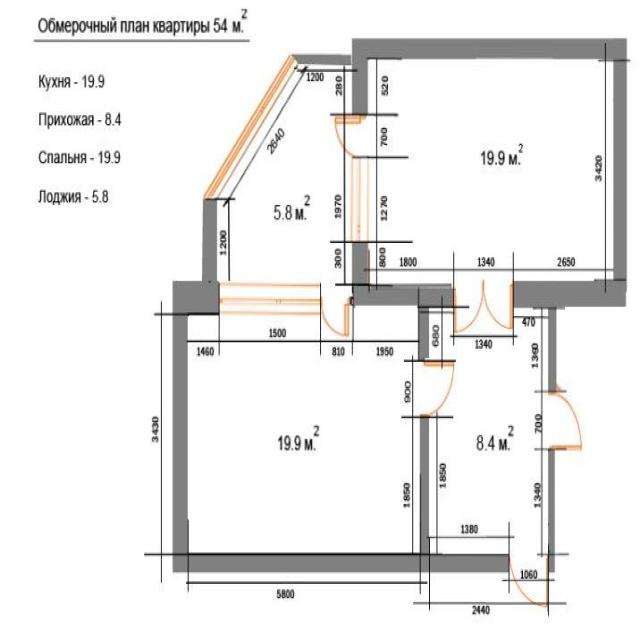Corridors: (430, 308, 547, 553)
Doors: (454, 279, 513, 336), (545, 392, 585, 453), (509, 553, 549, 609), (418, 359, 456, 415), (322, 283, 352, 339), (332, 115, 369, 158)
LBwalls: (172, 281, 509, 573), (352, 37, 628, 309), (352, 242, 456, 307)
Offices: (189, 305, 420, 553), (369, 60, 613, 280), (217, 64, 351, 282)
Walls: (201, 200, 218, 281), (420, 415, 429, 552), (547, 450, 555, 574), (548, 308, 557, 394), (293, 54, 352, 65), (418, 308, 430, 362)
Windows: (202, 52, 299, 199), (220, 283, 322, 317), (352, 159, 368, 242)
